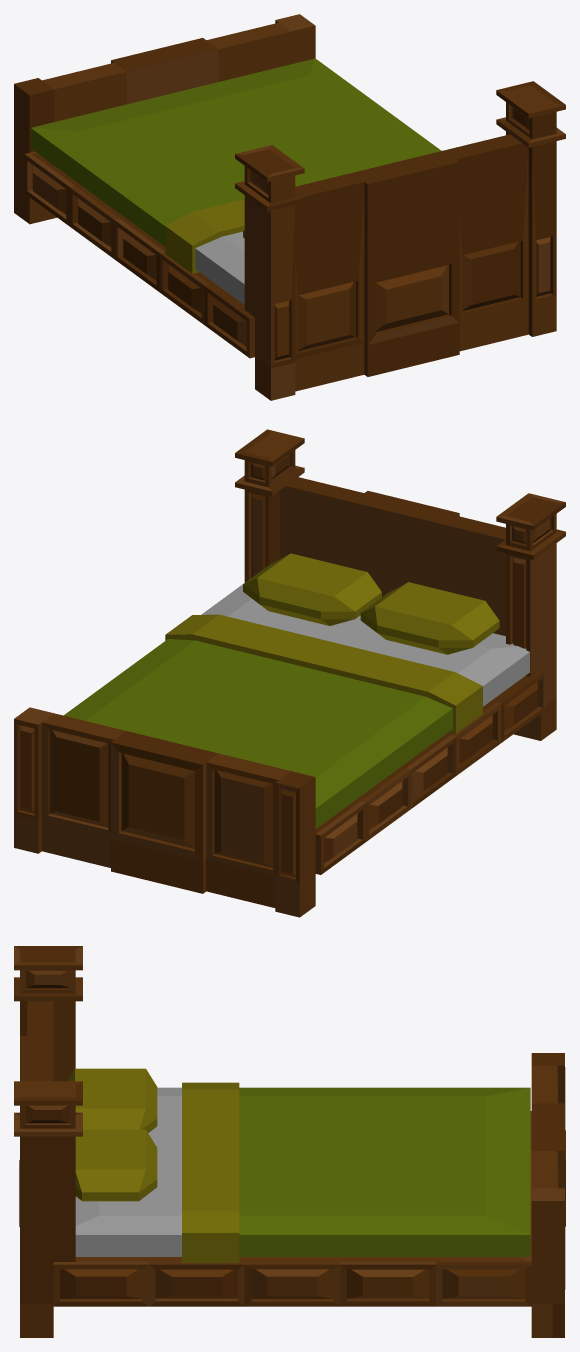
The model's file is castle_town_interior_bed.fbx.
3 renders of one model, top to bottom at view 1: azimuth 30°, elevation 25°; view 2: azimuth 150°, elevation 25°; view 3: azimuth 270°, elevation 25°, orthographic. The views are drawn at different scales.
Parts seen in each view (by area): view 1: Cube.002; view 2: Cube.002; view 3: Cube.002.
Part boxes in pixels (x1,y1,x2,y2): Cube.002: (14, 14, 565, 400); Cube.002: (14, 429, 565, 917); Cube.002: (14, 946, 565, 1337).
Bounding box in the file's own units: 2390 × 1150 × 1594.
